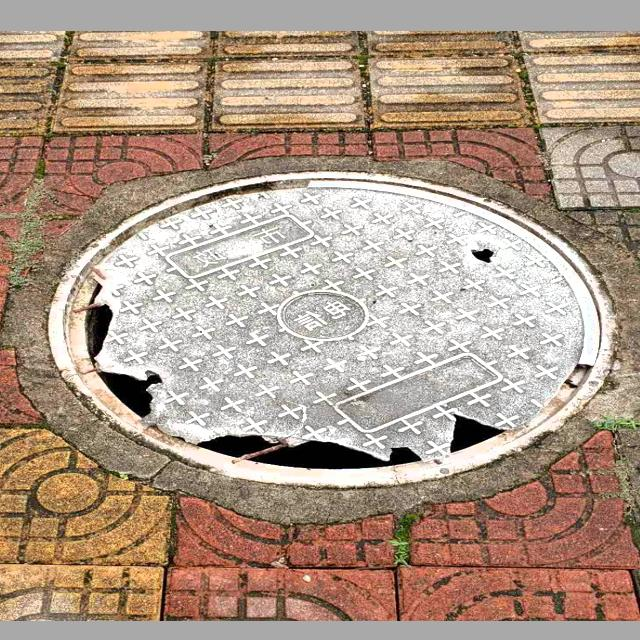broke: (46, 171, 621, 490)
